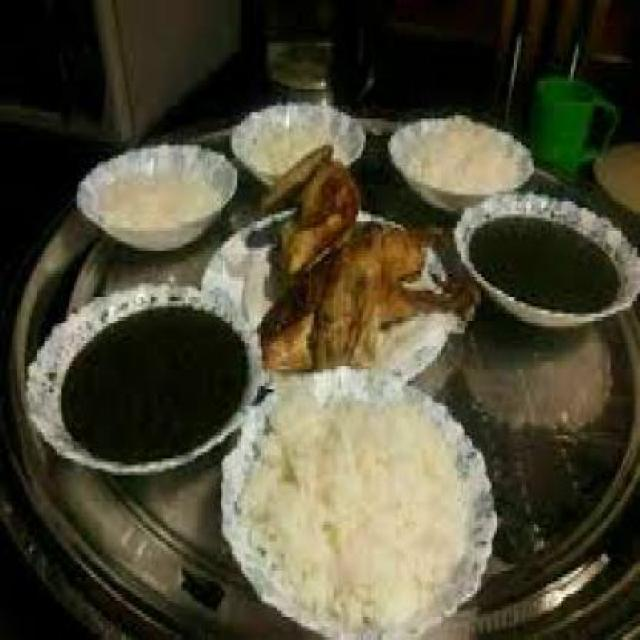fried rice: (238, 385, 462, 627), (90, 145, 216, 224), (390, 106, 516, 182), (252, 101, 354, 156)
molokhia: (47, 297, 245, 461), (462, 198, 628, 324)
